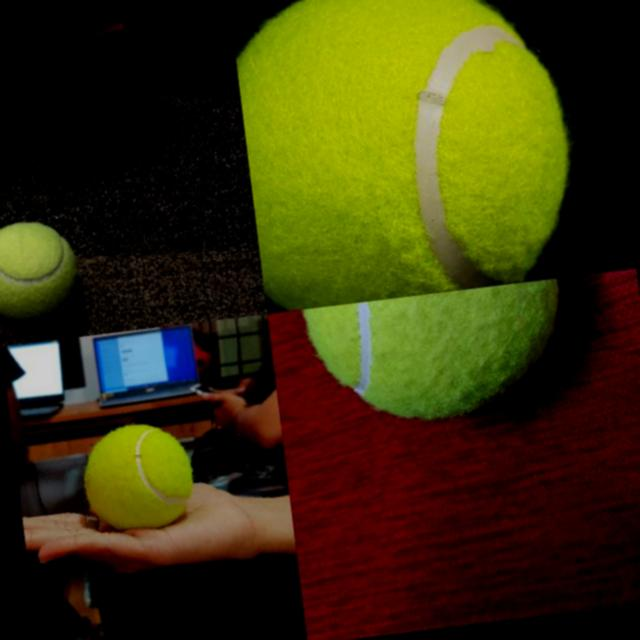tennis-ball: (229, 0, 584, 312), (300, 277, 574, 433), (80, 418, 196, 530), (0, 213, 85, 328)
